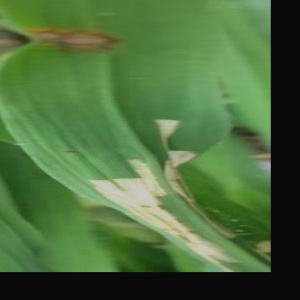Brown_Spot: (8, 19, 120, 56)
